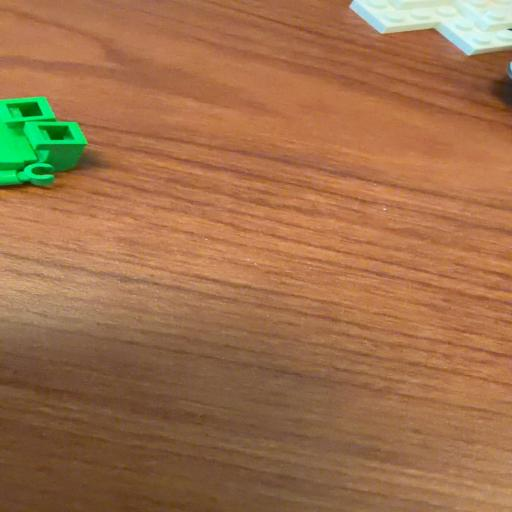UnoQ-minifig-detector: (0, 96, 87, 183)
